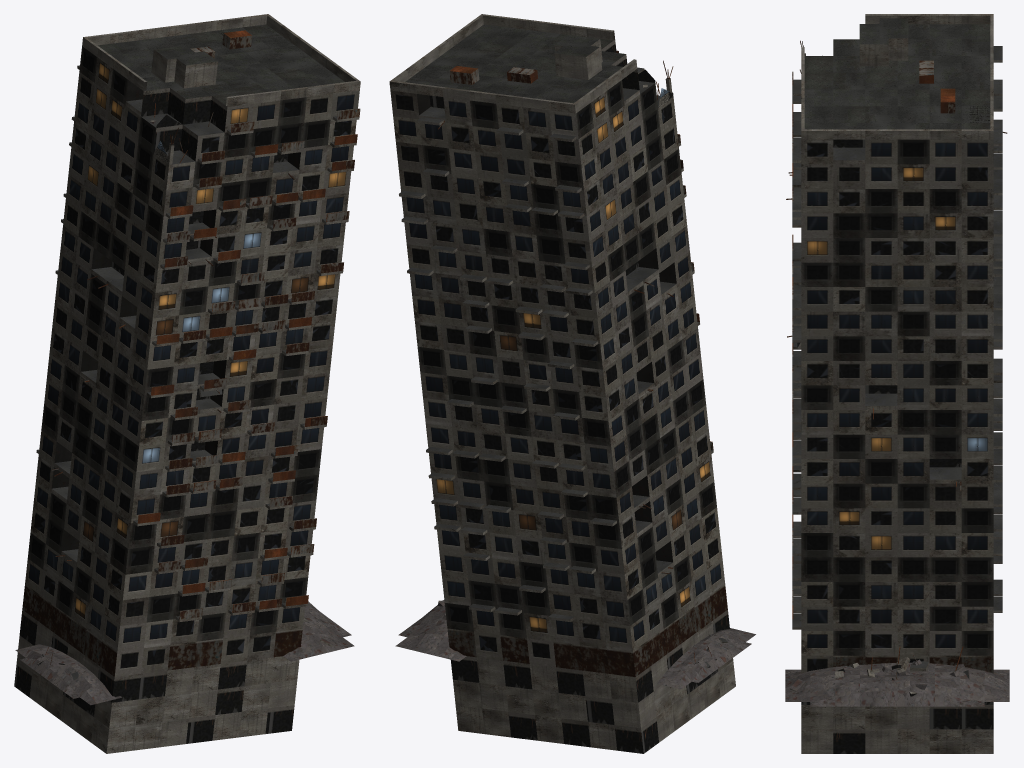
Rendered from Building_Leaning.fbx.
3 views of the same model, side by side, from view 1: azimuth 30°, elevation 25°; view 2: azimuth 150°, elevation 25°; view 3: azimuth 270°, elevation 25° (orthographic). The views are drawn at different scales.
Visible parts, largest first — view 1: Building_Leaning; view 2: Building_Leaning; view 3: Building_Leaning.
Boxes of the visible parts, <box> form: Building_Leaning: <box>14,14,360,753</box>; Building_Leaning: <box>389,14,755,753</box>; Building_Leaning: <box>785,14,1009,753</box>.
Bounding box in the file's own units: 149 × 340 × 100.
Materials: 1 (1 with a texture image).
